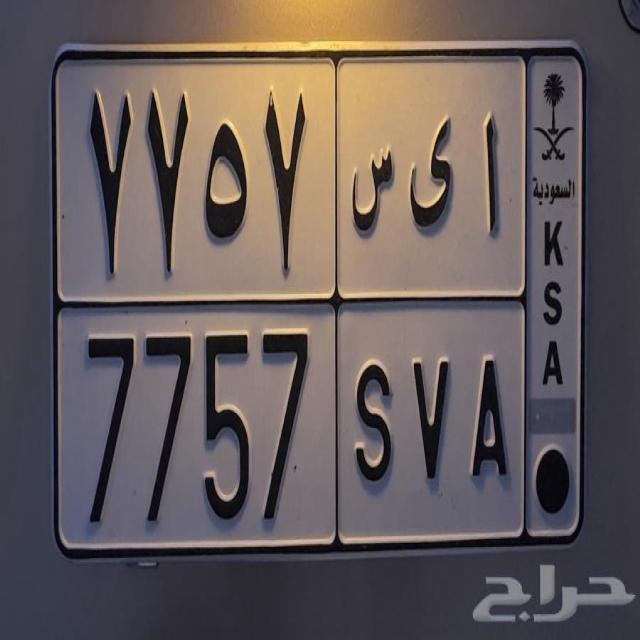license_plate: (78, 328, 528, 528)
